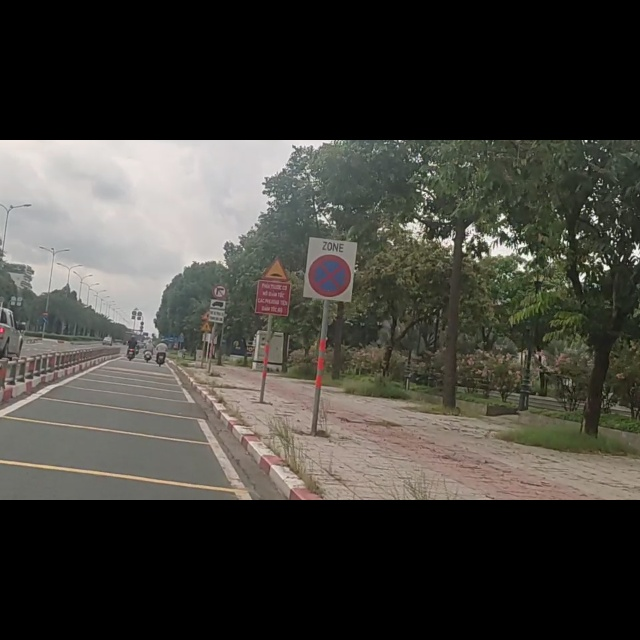bien_nguy_hiem: (305, 173, 355, 287), (261, 207, 289, 251), (209, 281, 225, 325), (211, 256, 227, 282)
